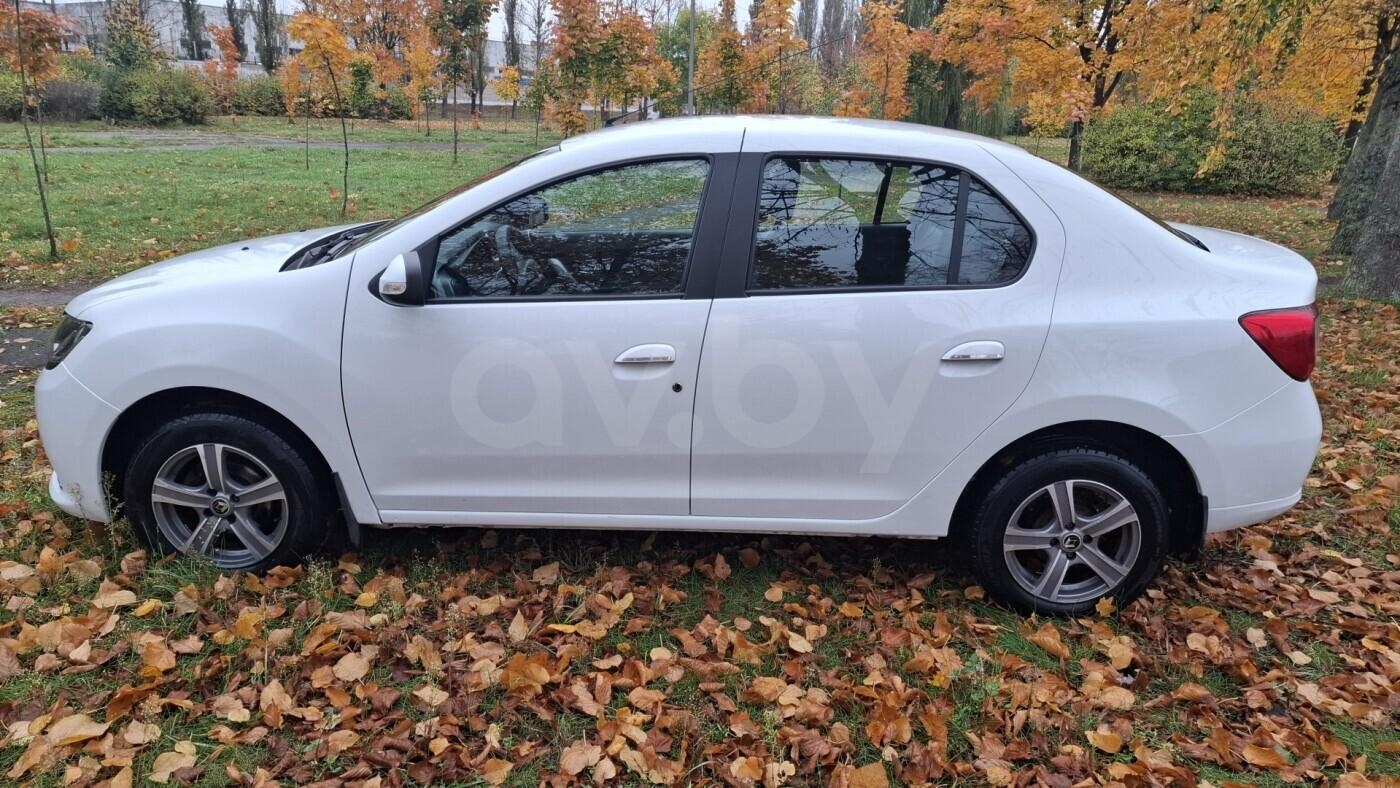Logan_2013-2018: (30, 111, 1332, 617)
